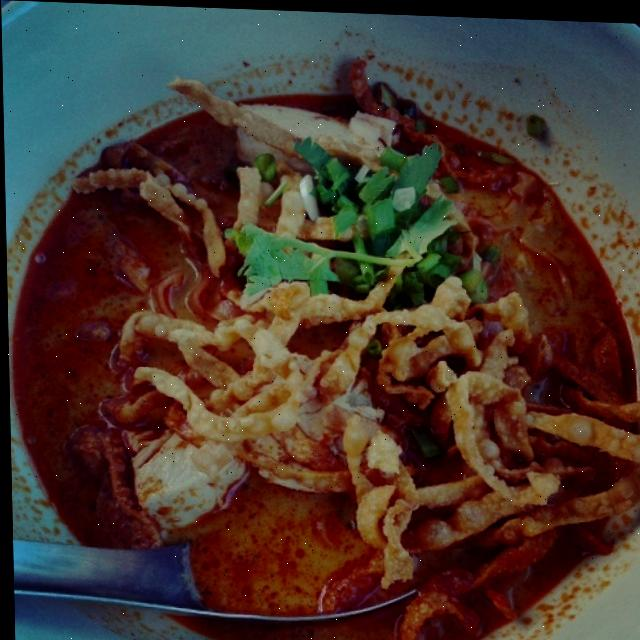面条主食: (12, 57, 626, 640)
